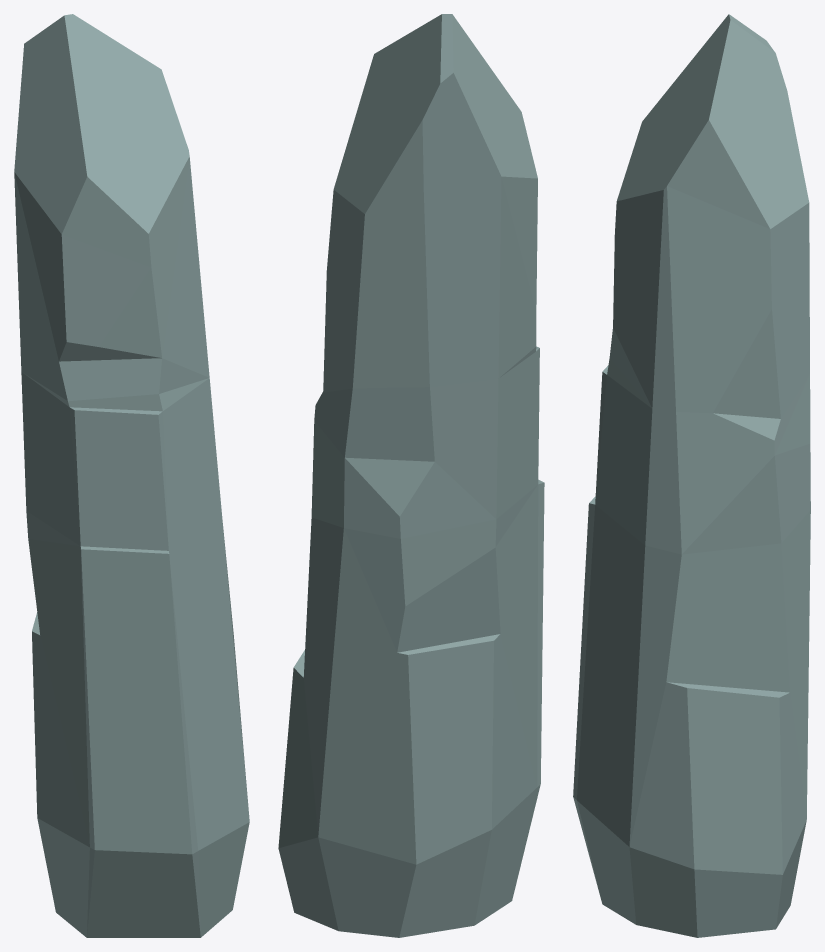
File: Cristal_Long.fbx
3 views of the same model, side by side, from view 1: azimuth 30°, elevation 25°; view 2: azimuth 150°, elevation 25°; view 3: azimuth 270°, elevation 25° (orthographic). The views are drawn at different scales.
Visible parts, largest first — view 1: Cristal_Long; view 2: Cristal_Long; view 3: Cristal_Long.
Boxes of the visible parts, x1,y1,x2,y2 form: Cristal_Long: (14,14,249,937); Cristal_Long: (278,14,544,937); Cristal_Long: (573,14,810,937).
Size of the model in its own units: 2149 by 8793 by 2210.
